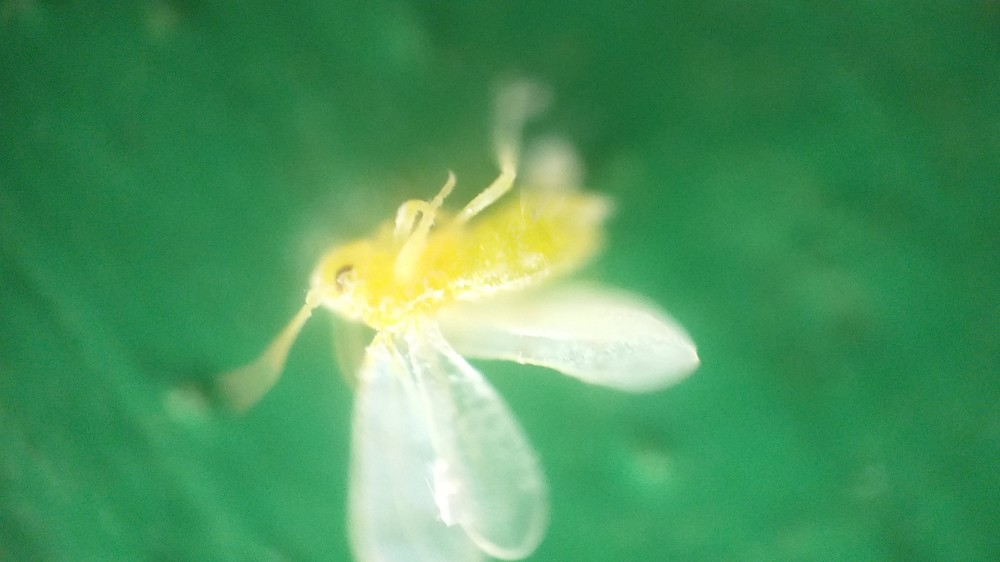Mosca Blanca: (219, 76, 714, 562)
